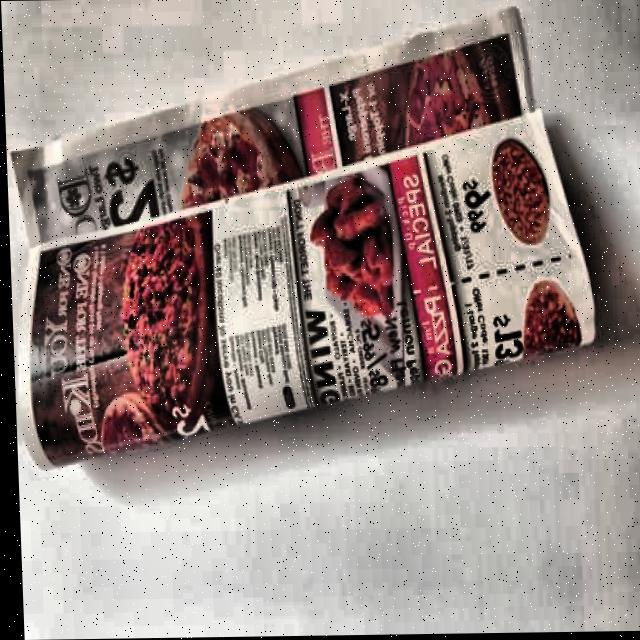paper: (1, 0, 598, 471)
